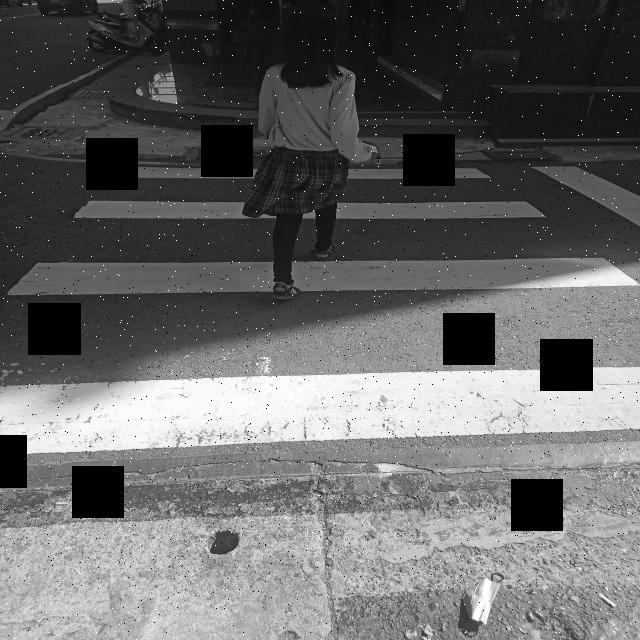zebra_crossing: (146, 124, 441, 370), (118, 16, 124, 311)
